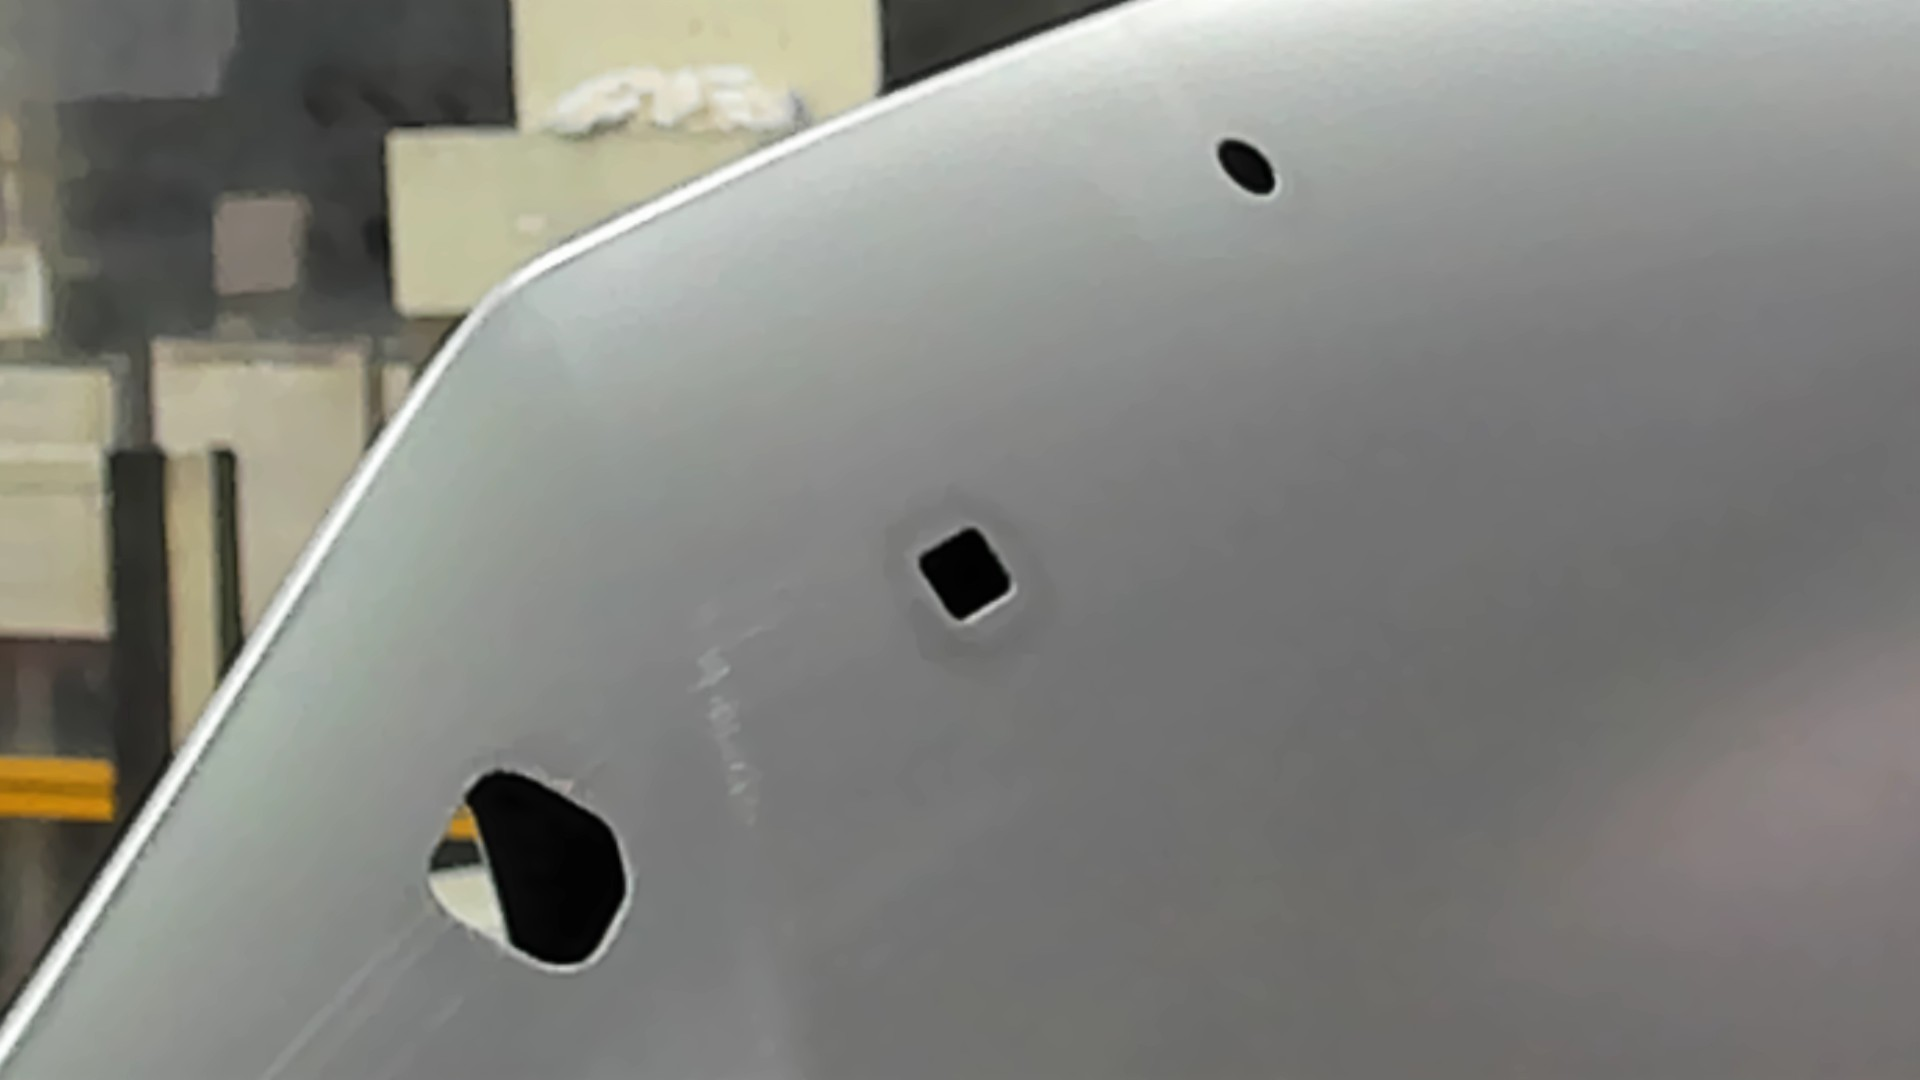chico: (1211, 132, 1283, 200)
grande: (425, 767, 637, 976)
mediano: (911, 520, 1019, 633)
